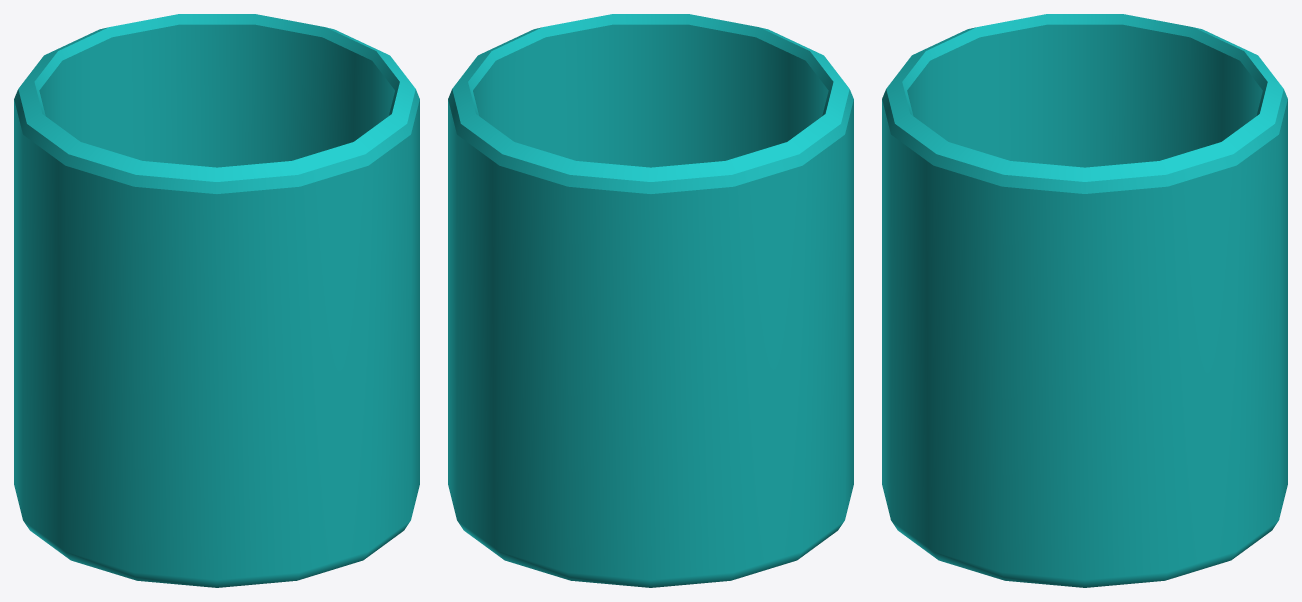
Rendered from cestoderopa.fbx.
The picture shows the model from 3 angles, left to right: view 1: azimuth 30°, elevation 25°; view 2: azimuth 150°, elevation 25°; view 3: azimuth 270°, elevation 25°; orthographic projection.
Visible parts, largest first — view 1: CestoDeRopa; view 2: CestoDeRopa; view 3: CestoDeRopa.
Part boxes in pixels (x1,y1,x2,y2): CestoDeRopa: [14, 14, 419, 587]; CestoDeRopa: [448, 14, 853, 587]; CestoDeRopa: [882, 14, 1287, 587].
Bounding box in the file's own units: 0.5142 × 0.5888 × 0.517.
